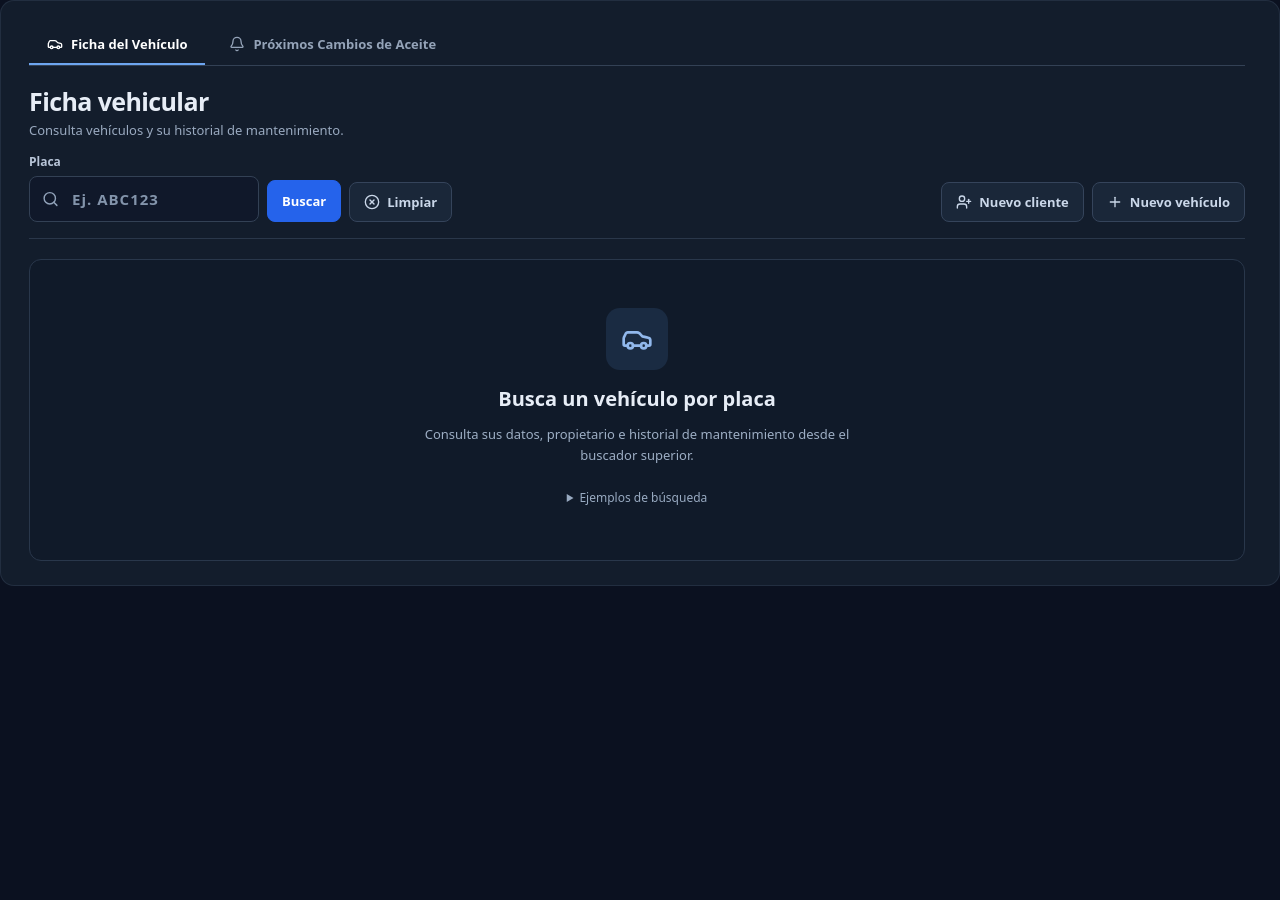
FichaVehicularPage - Pruebas de Integración Frontend (Punto 15) › 2. Muestra estado de carga, renderiza la ficha vehicular y el cliente histórico atendido
In the field with placeholder "Ej. ABC123": coordinates (144, 199) left=29, top=176, right=259, bottom=222, type "ABC123"
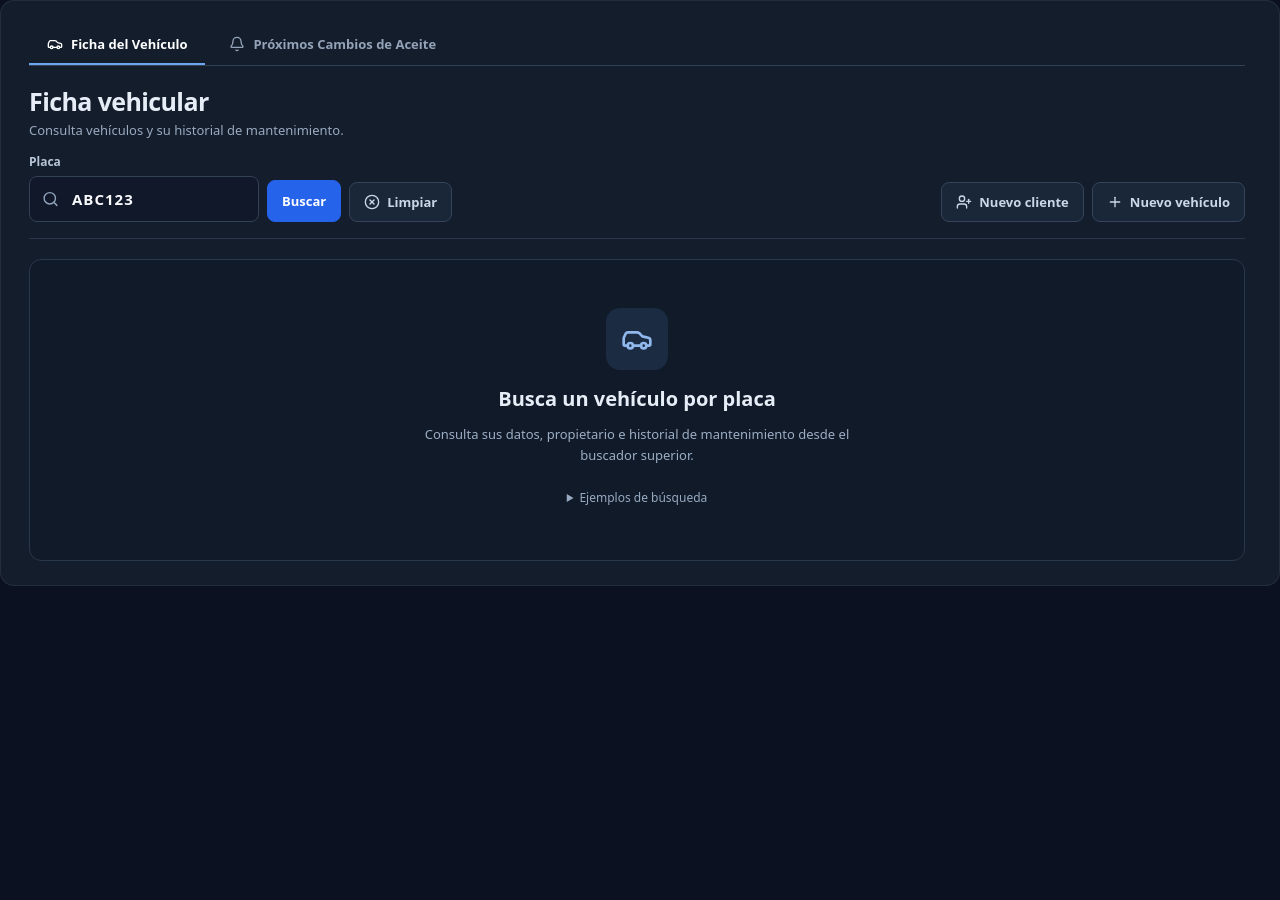
Click the button "Buscar": coordinates (304, 201) left=267, top=180, right=341, bottom=222
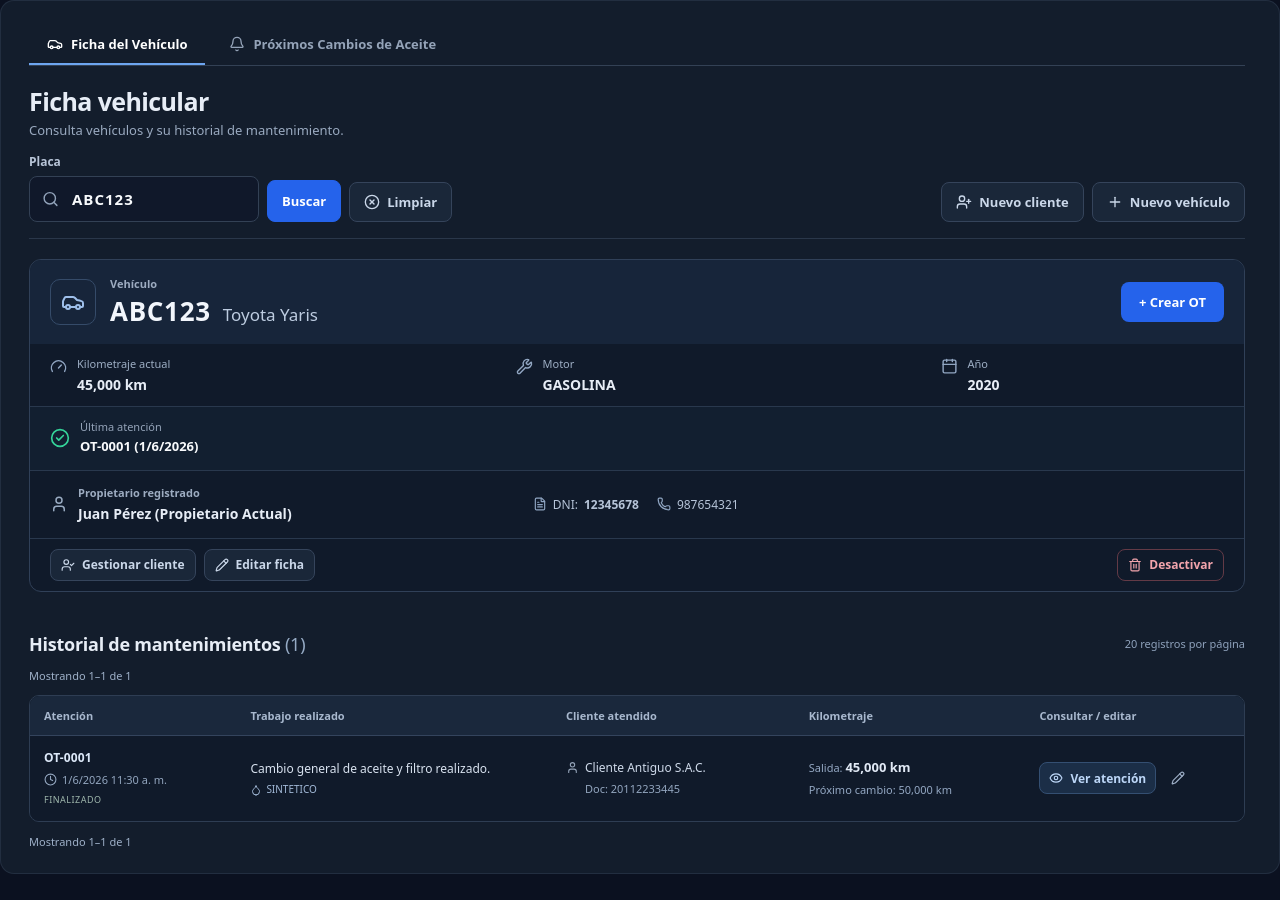
Now the heading "Juan Pérez (Propietario Actual)" is shown, box left=78, top=504, right=292, bottom=524
Now the text "Cliente Antiguo S.A.C." is shown, box left=566, top=759, right=706, bottom=776
Now the text "Doc: 20112233445" is shown, box left=585, top=781, right=680, bottom=796
